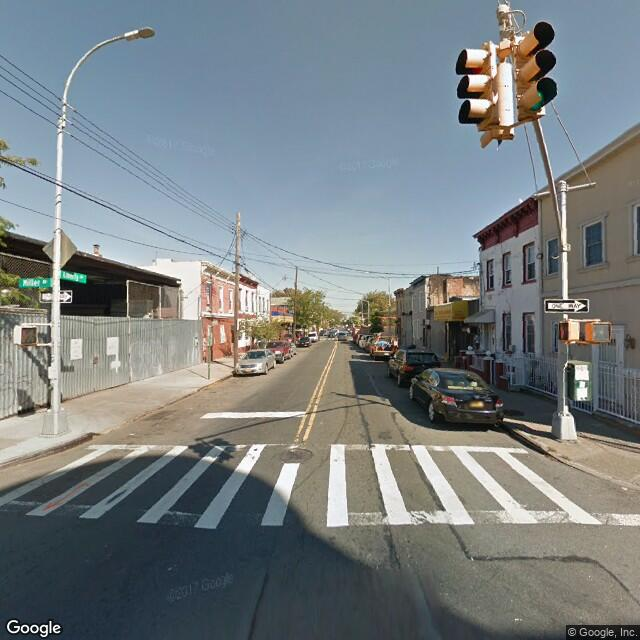litter: (513, 617, 524, 623), (128, 431, 136, 438)
